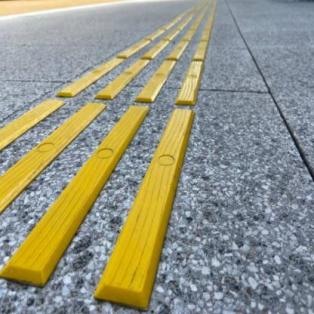Podoctatil: (0, 0, 219, 312)
